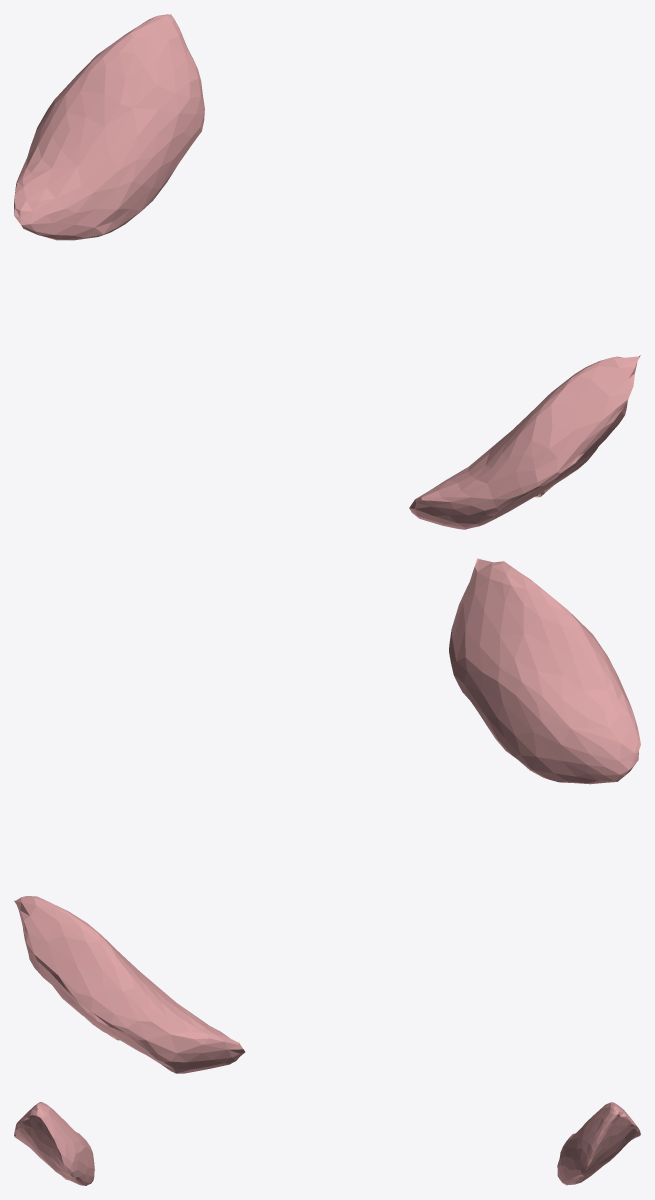
3 renders of one model, top to bottom at view 1: azimuth 30°, elevation 25°; view 2: azimuth 150°, elevation 25°; view 3: azimuth 270°, elevation 25°, orthographic. The views are drawn at different scales.
Parts seen in each view (by area): view 1: 496345668.obj; view 2: 496345668.obj; view 3: 496345668.obj.
Part boxes in pixels (left/top/right/bottom): 496345668.obj: left=14, top=14, right=640, bottom=529; 496345668.obj: left=14, top=558, right=640, bottom=1073; 496345668.obj: left=14, top=1102, right=640, bottom=1185.
Bounding box in the file's own units: 1238 × 968 × 5298.
